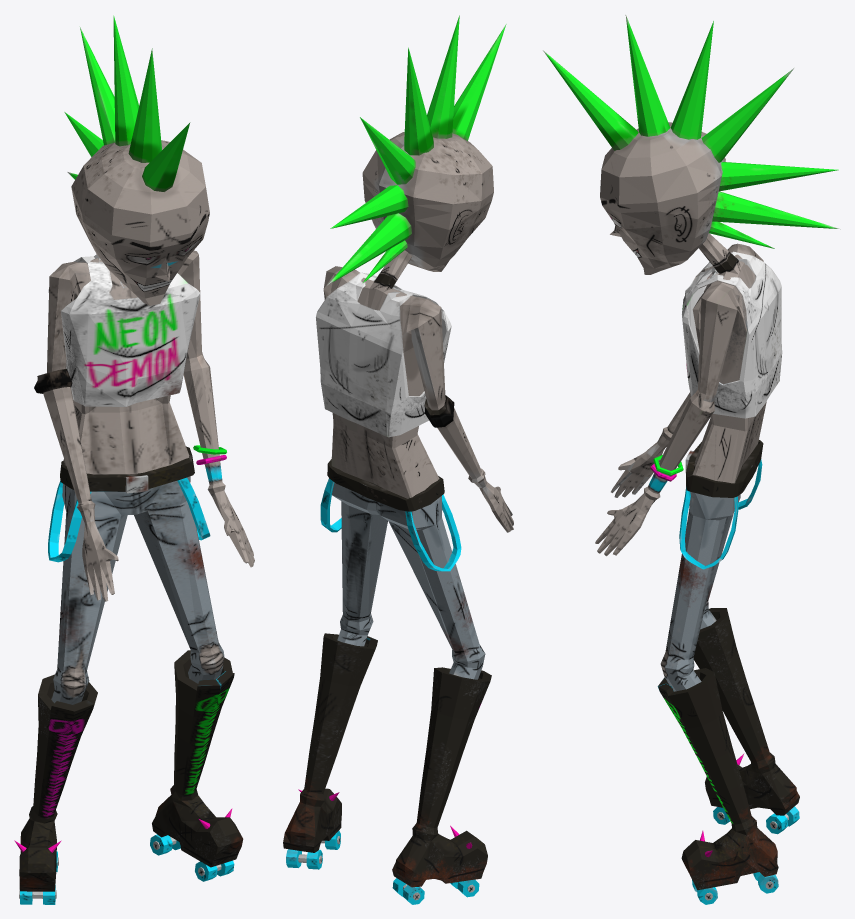
The model's file is punkAnimation_000016.obj.
3 views of the same model, side by side, from view 1: azimuth 30°, elevation 25°; view 2: azimuth 150°, elevation 25°; view 3: azimuth 270°, elevation 25° (orthographic). The views are drawn at different scales.
Parts seen in each view (by area): view 1: Cube.004_Cube.003; view 2: Cube.004_Cube.003; view 3: Cube.004_Cube.003.
Boxes of the visible parts, x1,y1,x2,y2 form: Cube.004_Cube.003: (14,15,254,904); Cube.004_Cube.003: (283,15,513,904); Cube.004_Cube.003: (543,15,840,904).
Bounding box in the file's own units: 1.82 × 7.4 × 2.39.
